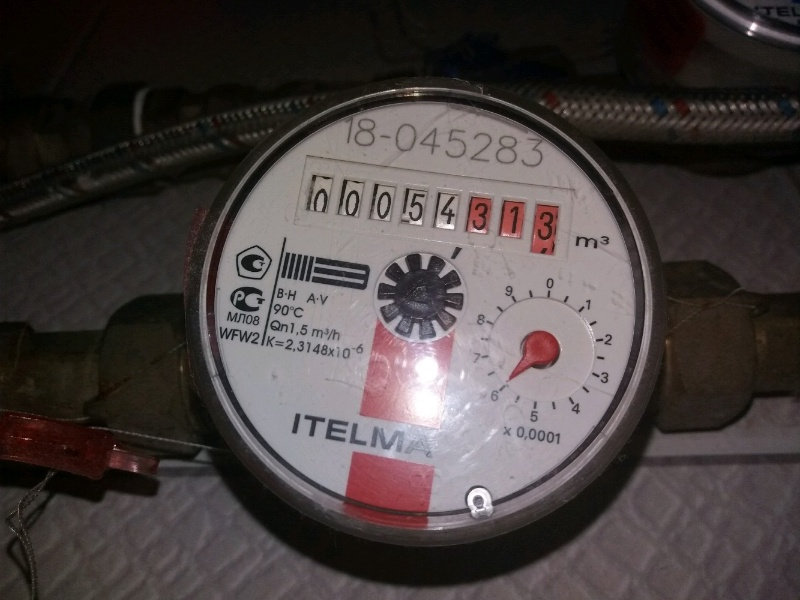meter: (304, 179, 561, 248)
